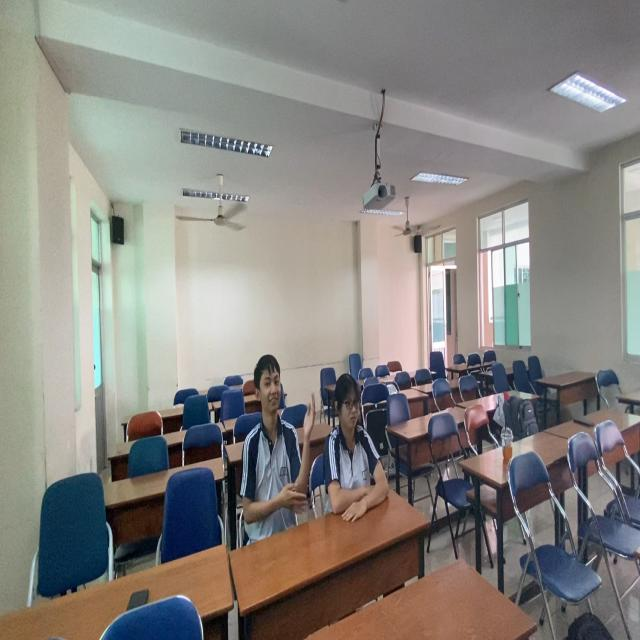raise_hand: (247, 350, 317, 542)
